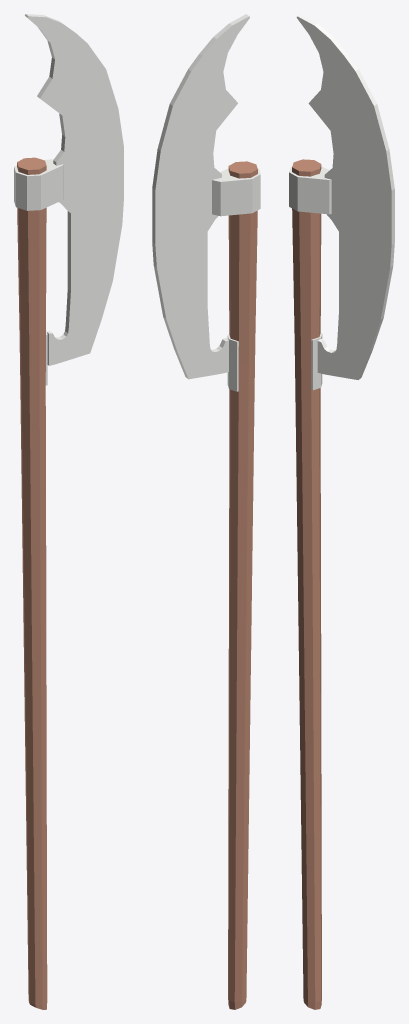
File: axes2.glb
3 renders of one model, left to right at view 1: azimuth 30°, elevation 25°; view 2: azimuth 210°, elevation 25°; view 3: azimuth 330°, elevation 25°, orthographic.
Parts seen in each view (by area): view 1: Bardiche; view 2: Bardiche; view 3: Bardiche.
Part boxes in pixels (x1,y1,x2,y2): Bardiche: (14,14,123,1009); Bardiche: (152,14,260,1009); Bardiche: (289,14,394,1009).
Bounding box in the file's own units: 0.244 × 2.22 × 0.0741.
